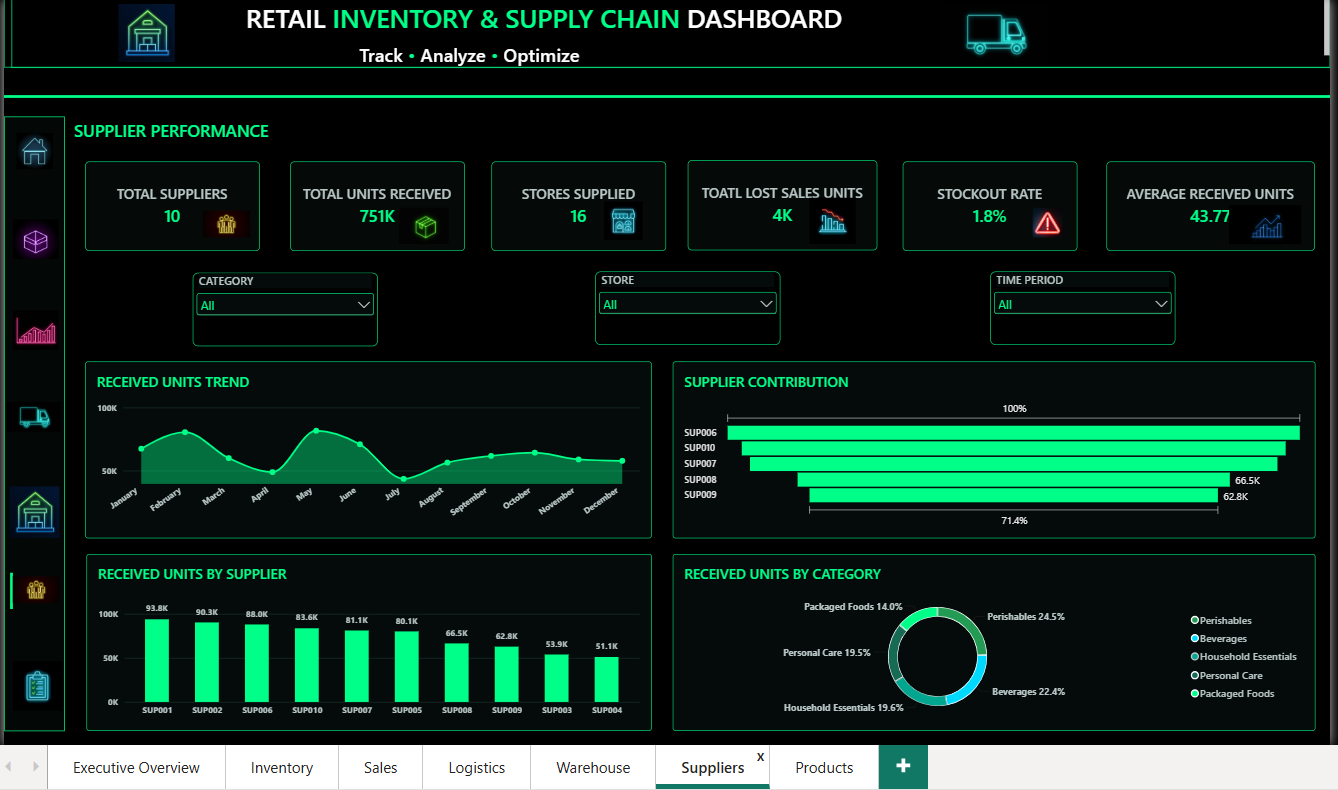

The dashboard page shown, as its layout file describes it:
{"tool":"powerbi","page":{"name":"Suppliers","canvas":[1920,1080],"ordinal":5},"visuals":[{"type":"shape","box":[10.3,0,1910.1,100],"z":0},{"type":"shape","box":[0,99.5,1920.1,83.2],"z":1000},{"type":"textbox","box":[0,0,1920.1,99.5],"z":2000},{"type":"image","box":[1356,0,156,100],"z":3000},{"type":"shape","box":[0,170,88,890],"z":4000},{"type":"image","box":[10.9,193.6,67,52.5],"z":5000},{"type":"shape","box":[0,830,21.7,52.5],"z":6000},{"type":"image","box":[12,300,66,94],"z":7000},{"type":"image","box":[12,418,66,122],"z":8000},{"type":"image","box":[4,560,78,92],"z":9000},{"type":"image","box":[8,706,74,74],"z":10000},{"type":"image","box":[12,780,68,150],"z":11000},{"type":"image","box":[12,932,72,124],"z":12000},{"type":"textbox","box":[102,156,326,64],"z":13000},{"type":"cardVisual","fields":{"Data":["Count(inventory_ledger_clean.supplier_id)"]},"box":[117.4,234.7,253,129.5],"z":14000},{"type":"cardVisual","fields":{"Data":["inventory_ledger_clean.Total Units Received"]},"box":[414.8,234.7,253,129.5],"z":15000},{"type":"cardVisual","fields":{"Data":["inventory_ledger_clean.Stores Supplied"]},"box":[706.2,234.7,253,129.5],"z":16000},{"type":"cardVisual","fields":{"Data":["Sum(inventory_ledger_clean.lost_sales_units)"]},"box":[990,234,274,130],"z":17000},{"type":"cardVisual","fields":{"Data":["inventory_ledger_clean.Stockout Rate"]},"box":[1301.2,234.7,253,129.5],"z":18000},{"type":"cardVisual","fields":{"Data":["Avg(inventory_ledger_clean.units_received)"]},"box":[1596.6,234.7,301.5,129.5],"z":19000},{"type":"lineChart","title":"RECEIVED UNITS TREND","fields":{"Category":["inventory_ledger_clean.week_start.Variation.Date Hierarchy.Month"],"Y":["Sum(inventory_ledger_clean.units_received)"]},"box":[118,524,820,256],"z":20000},{"type":"donutChart","title":"RECEIVED UNITS BY CATEGORY","fields":{"Category":["inventory_ledger_clean.category"],"Y":["Sum(inventory_ledger_clean.units_received)"]},"box":[968,804,930,256],"z":21000},{"type":"clusteredColumnChart","title":"RECEIVED UNITS BY SUPPLIER","fields":{"Category":["inventory_ledger_clean.supplier_id"],"Y":["Sum(inventory_ledger_clean.units_received)"]},"box":[120,804,818,256],"z":22000},{"type":"slicer","fields":{"Values":["inventory_ledger_clean.category"]},"box":[274,396,268,106],"z":23000},{"type":"slicer","fields":{"Values":["inventory_ledger_clean.store_id"]},"box":[856,394,268,106],"z":24000},{"type":"slicer","fields":{"Values":["inventory_ledger_clean.week_start"]},"box":[1428,394,268,106],"z":25000},{"type":"image","box":[84,8,246,84],"z":26000},{"type":"funnel","title":"SUPPLIER CONTRIBUTION","fields":{"Category":["inventory_ledger_clean.supplier_id"],"Y":["Sum(inventory_ledger_clean.units_received)"]},"box":[968,524,930,256],"z":27000},{"type":"image","box":[287.7,295,68.8,61.5],"z":28000},{"type":"image","box":[571.9,300.4,72.4,56.1],"z":29000},{"type":"image","box":[856,293.2,81.4,56.1],"z":30000},{"type":"image","box":[1156.4,287.7,86.9,67],"z":31000},{"type":"image","box":[1474.9,302.2,72.4,43.4],"z":32000},{"type":"image","box":[1773.5,289.5,105,74.2],"z":33000}]}

Visuals, with their boxes on the page's 1920x1080 design canvas (x1, y1, x2, y2). These are canvas units, not pixel positions in the 1338x790 screenshot, which may show the page scaled, cropped or inside an application window:
shape: (10,0,1920,100)
shape: (0,100,1920,183)
textbox: (0,0,1920,100)
image: (1356,0,1512,100)
shape: (0,170,88,1060)
image: (11,194,78,246)
shape: (0,830,22,882)
image: (12,300,78,394)
image: (12,418,78,540)
image: (4,560,82,652)
image: (8,706,82,780)
image: (12,780,80,930)
image: (12,932,84,1056)
textbox: (102,156,428,220)
cardVisual - Count(inventory_ledger_clean.supplier_id): (117,235,370,364)
cardVisual - inventory_ledger_clean.Total Units Received: (415,235,668,364)
cardVisual - inventory_ledger_clean.Stores Supplied: (706,235,959,364)
cardVisual - Sum(inventory_ledger_clean.lost_sales_units): (990,234,1264,364)
cardVisual - inventory_ledger_clean.Stockout Rate: (1301,235,1554,364)
cardVisual - Avg(inventory_ledger_clean.units_received): (1597,235,1898,364)
"RECEIVED UNITS TREND" lineChart: (118,524,938,780)
"RECEIVED UNITS BY CATEGORY" donutChart: (968,804,1898,1060)
"RECEIVED UNITS BY SUPPLIER" clusteredColumnChart: (120,804,938,1060)
slicer - inventory_ledger_clean.category: (274,396,542,502)
slicer - inventory_ledger_clean.store_id: (856,394,1124,500)
slicer - inventory_ledger_clean.week_start: (1428,394,1696,500)
image: (84,8,330,92)
"SUPPLIER CONTRIBUTION" funnel: (968,524,1898,780)
image: (288,295,356,356)
image: (572,300,644,356)
image: (856,293,937,349)
image: (1156,288,1243,355)
image: (1475,302,1547,346)
image: (1774,290,1878,364)
